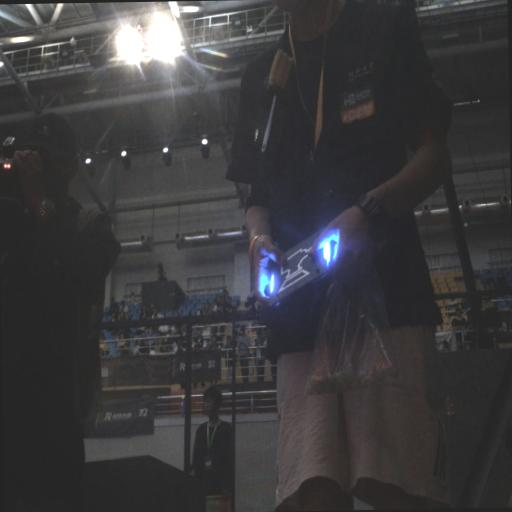target: (262, 238, 336, 298)
